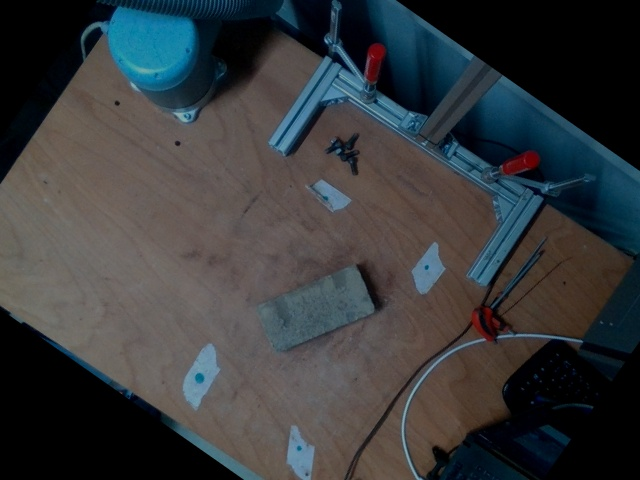brick: (258, 268, 374, 352)
